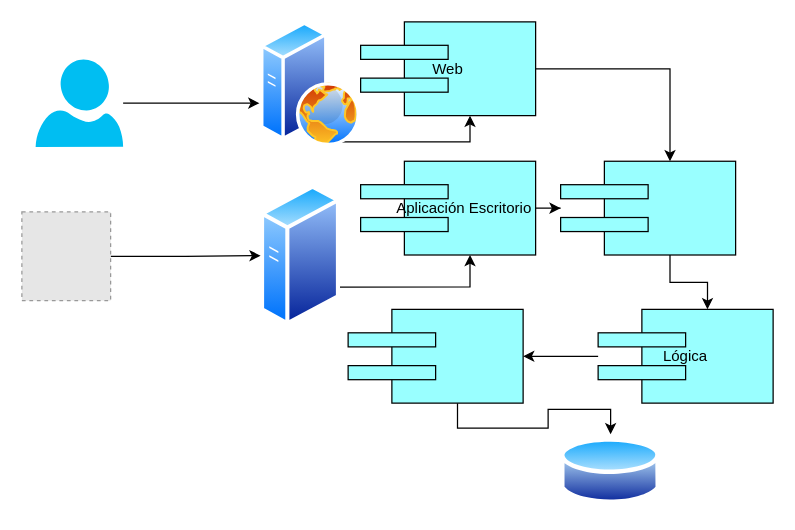
Some shapes in this 795 by 530 pixel diagram are drawn without their labels. Grey dashed boxes stand in for pictures. The box of each missing label's shape, as (x1, y1, x2, y2) in pixels:
Persistencia: (347, 308, 523, 403)
Servicio: (559, 160, 736, 255)
